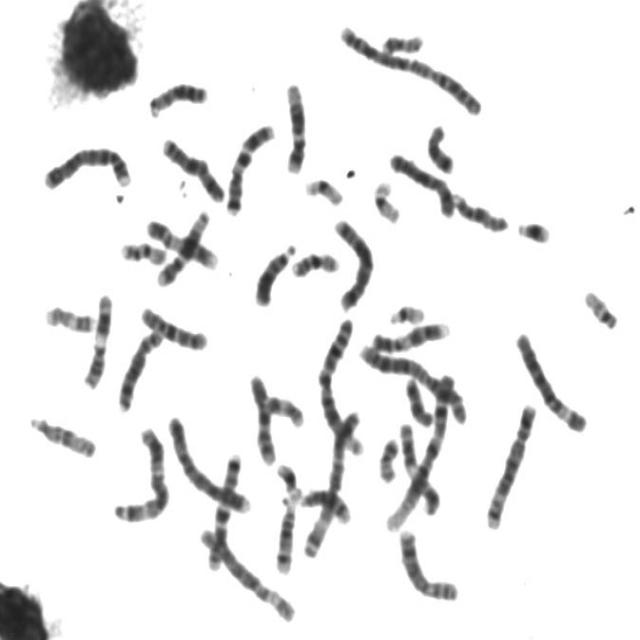A1: (380, 364, 458, 535), (312, 312, 366, 458)
A2: (333, 17, 484, 118), (354, 340, 470, 427)
A3: (298, 403, 364, 561), (108, 420, 172, 524)
B4: (162, 408, 252, 516), (39, 139, 133, 192)
B5: (480, 396, 539, 531), (328, 213, 376, 313)
C10: (135, 300, 209, 353), (244, 369, 278, 468)
C11: (395, 416, 441, 517), (78, 287, 114, 390)
C12: (151, 204, 213, 288), (280, 76, 308, 175)
C6: (195, 521, 298, 625), (510, 326, 590, 434)
C7: (220, 117, 278, 217), (201, 447, 244, 575)
C8: (394, 523, 461, 604), (112, 322, 166, 413)
C9: (142, 213, 220, 271), (367, 315, 452, 354)
D13: (249, 237, 298, 308), (144, 75, 209, 120)
D14: (294, 482, 353, 526), (270, 489, 298, 576)
D15: (24, 409, 98, 460), (447, 186, 510, 234)
E16: (288, 245, 342, 279), (115, 235, 168, 267)
E17: (40, 299, 97, 334), (261, 389, 306, 430)
E18: (400, 370, 436, 429), (422, 118, 456, 175)
F19: (368, 174, 402, 225), (300, 172, 345, 208)
F20: (374, 431, 401, 486), (377, 27, 425, 56)
G21: (271, 456, 303, 504), (512, 214, 552, 246)
G22: (579, 284, 621, 332), (384, 298, 427, 327)
X: (384, 146, 456, 220), (157, 131, 227, 204)
